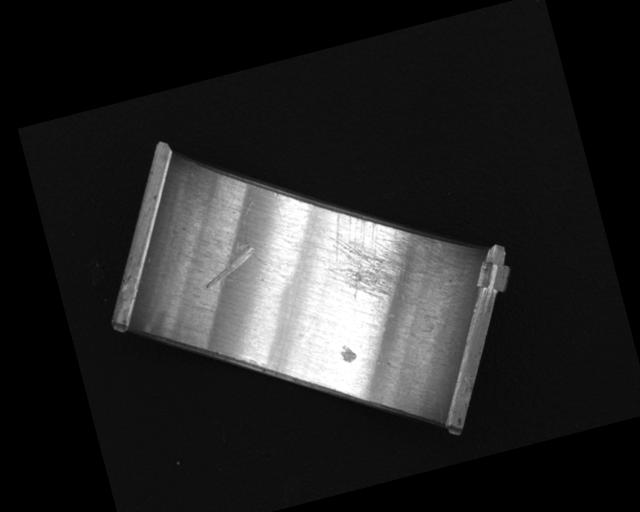bruise: (338, 342, 358, 366)
nick: (196, 240, 260, 290), (234, 197, 273, 273)
scratch: (310, 189, 447, 312)
